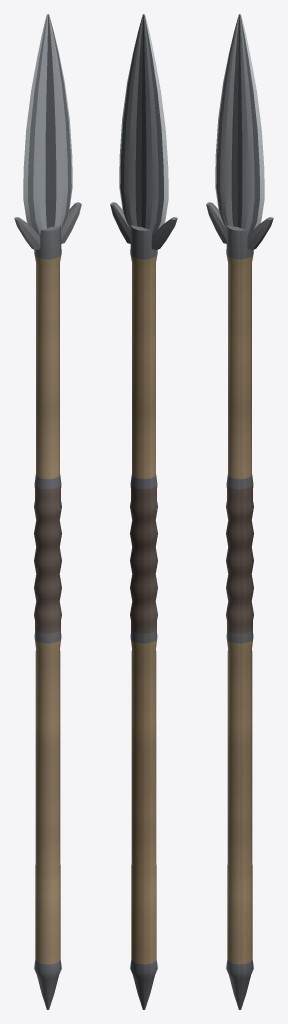
File: WPN_05_Spear_Wardens_Pike.fbx
The picture shows the model from 3 angles, left to right: view 1: azimuth 30°, elevation 25°; view 2: azimuth 150°, elevation 25°; view 3: azimuth 330°, elevation 25°; orthographic projection.
Visible parts, largest first — view 1: EXP_WPN_05_Spear_Wardens_Pike; view 2: EXP_WPN_05_Spear_Wardens_Pike; view 3: EXP_WPN_05_Spear_Wardens_Pike.
Part boxes in pixels (bbox=[...]): EXP_WPN_05_Spear_Wardens_Pike: bbox=[14, 14, 81, 1009]; EXP_WPN_05_Spear_Wardens_Pike: bbox=[110, 14, 177, 1009]; EXP_WPN_05_Spear_Wardens_Pike: bbox=[206, 14, 273, 1009].
Bounding box in the file's own units: 43.7 × 632 × 16.18.
Materials: 1 (1 with a texture image).
